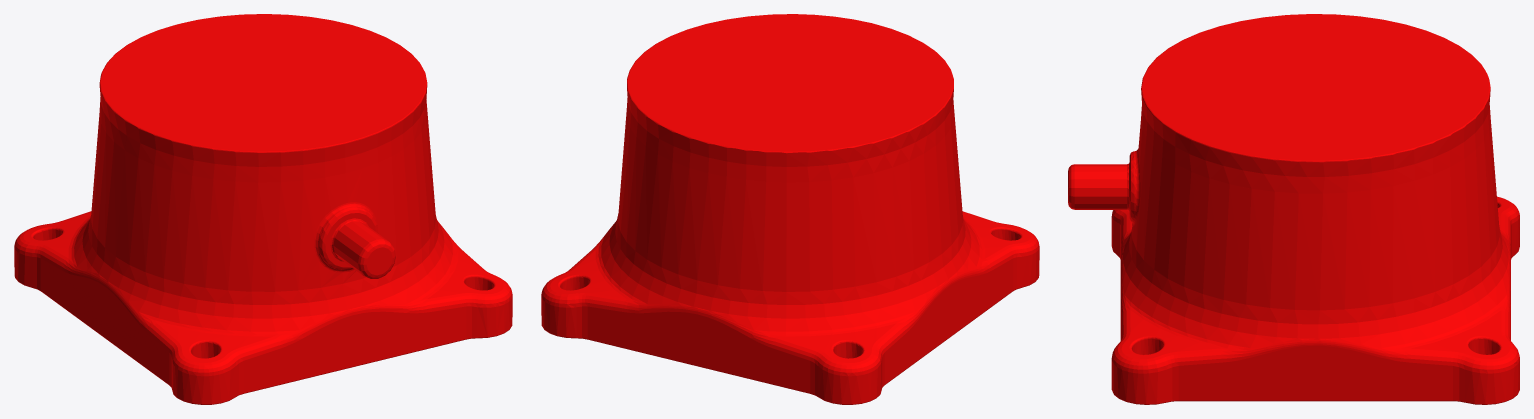
3 renders of one model, left to right at view 1: azimuth 30°, elevation 25°; view 2: azimuth 150°, elevation 25°; view 3: azimuth 270°, elevation 25°, orthographic. The views are drawn at different scales.
Visible parts, largest first — view 1: A0912_0_1; view 2: A0912_0_1; view 3: A0912_0_1.
Boxes of the visible parts, x1,y1,x2,y2 form: A0912_0_1: (14,14,512,404); A0912_0_1: (541,14,1039,404); A0912_0_1: (1068,14,1519,404).
Size of the model in its own units: 182 by 201 by 114.
